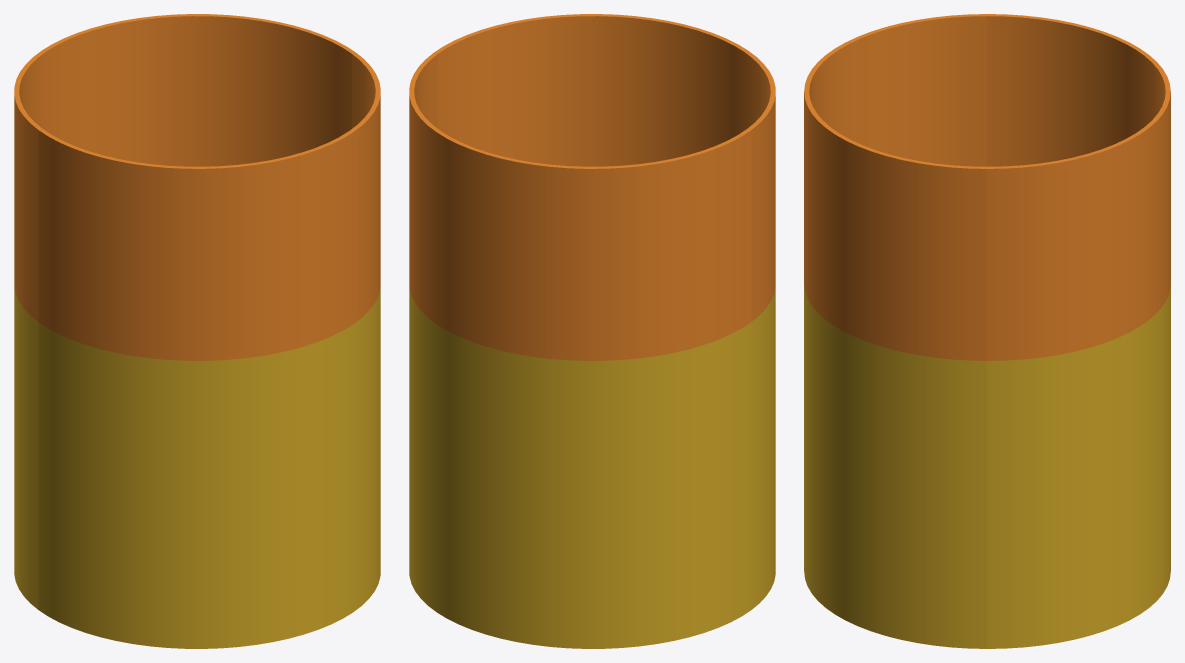
Rendered from precipitation_tank_agitator_temperature.glb.
3 renders of one model, left to right at view 1: azimuth 30°, elevation 25°; view 2: azimuth 150°, elevation 25°; view 3: azimuth 270°, elevation 25°, orthographic.
Visible parts, largest first — view 1: temperature__front, temperature__back; view 2: temperature__back, temperature__front; view 3: temperature__back, temperature__front.
Boxes of the visible parts, box(x1,y1,x2,y2) form: temperature__front: box(38, 53, 380, 648); temperature__back: box(14, 14, 355, 609); temperature__back: box(409, 53, 751, 648); temperature__front: box(434, 14, 775, 609); temperature__back: box(987, 14, 1170, 648); temperature__front: box(804, 14, 987, 648).
Size of the model in its own units: 1.8 by 2.6 by 1.8.
